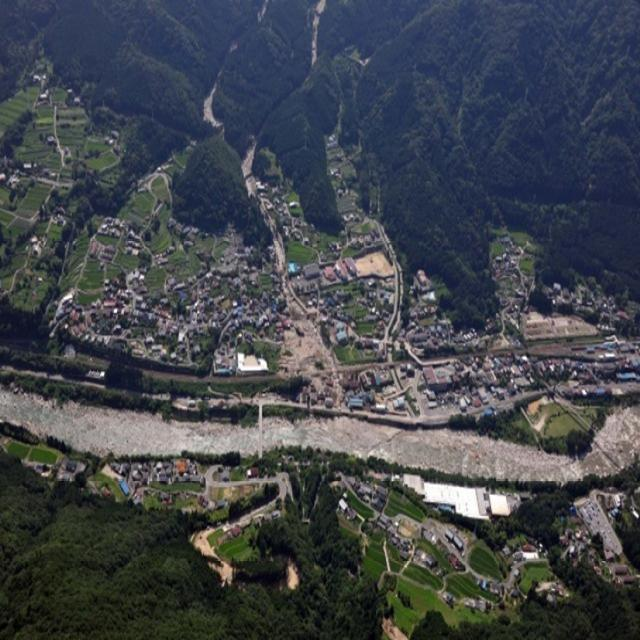Debris-flow: (202, 69, 224, 134), (311, 0, 326, 66), (241, 138, 256, 194), (258, 0, 267, 22), (229, 43, 238, 51)
